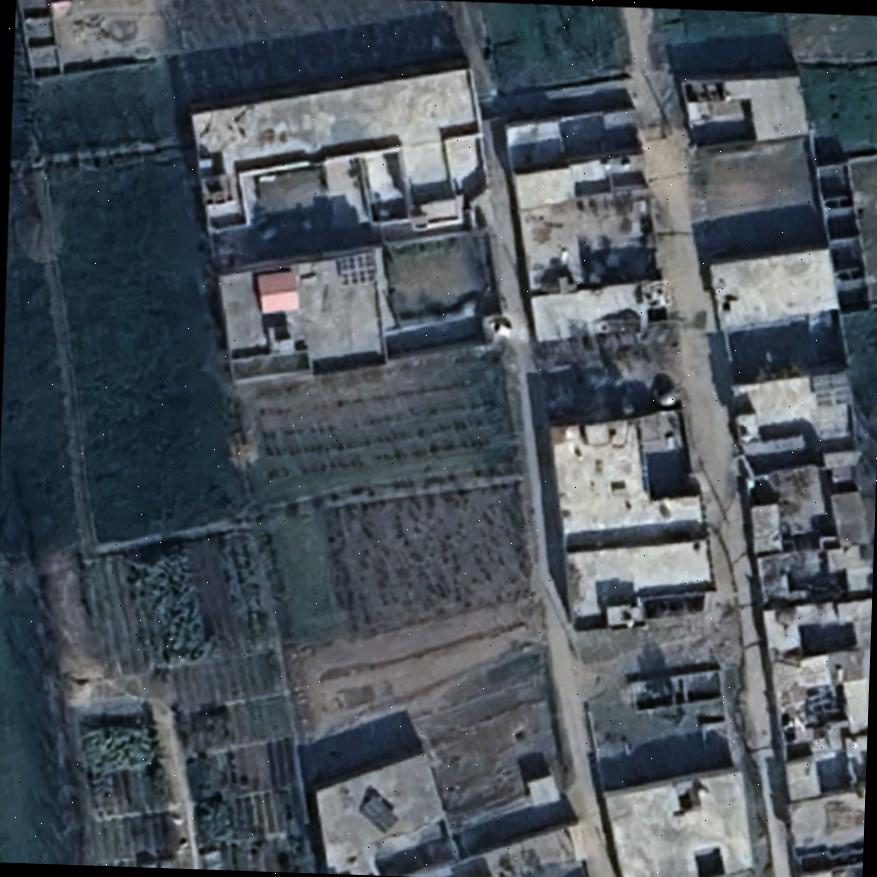Solarpanel: (331, 246, 379, 288), (356, 791, 399, 837), (807, 373, 856, 411)
